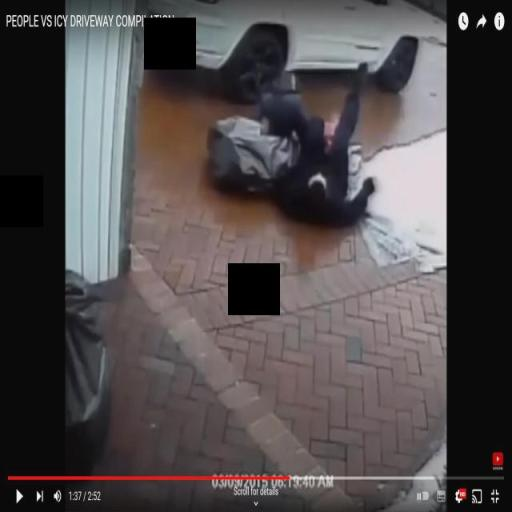Fall: (256, 56, 379, 233)
